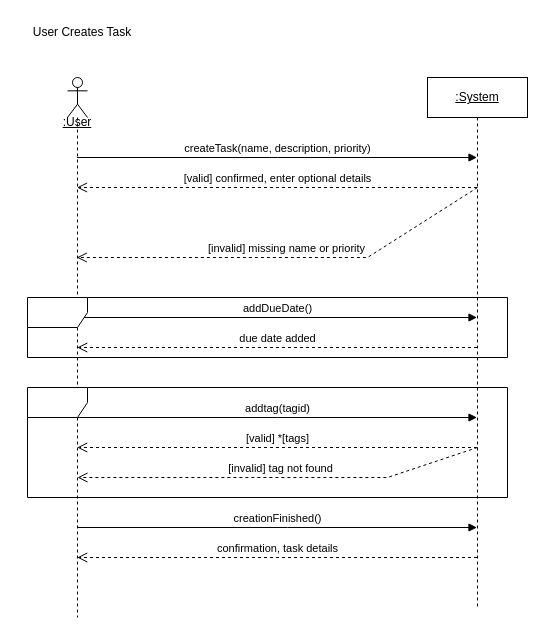
Image size: 545x635. Some labels were removed from this diagram. The shapes that lost their labels are listed below. From the top down, each one's box as (x1, y1, x2, y2) in pixels, then its label:
(26, 296, 508, 358): opt
(26, 386, 508, 498): loop
